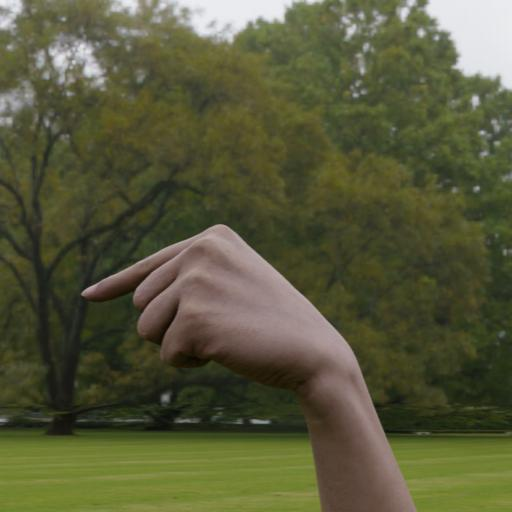G: (80, 219, 366, 395)
